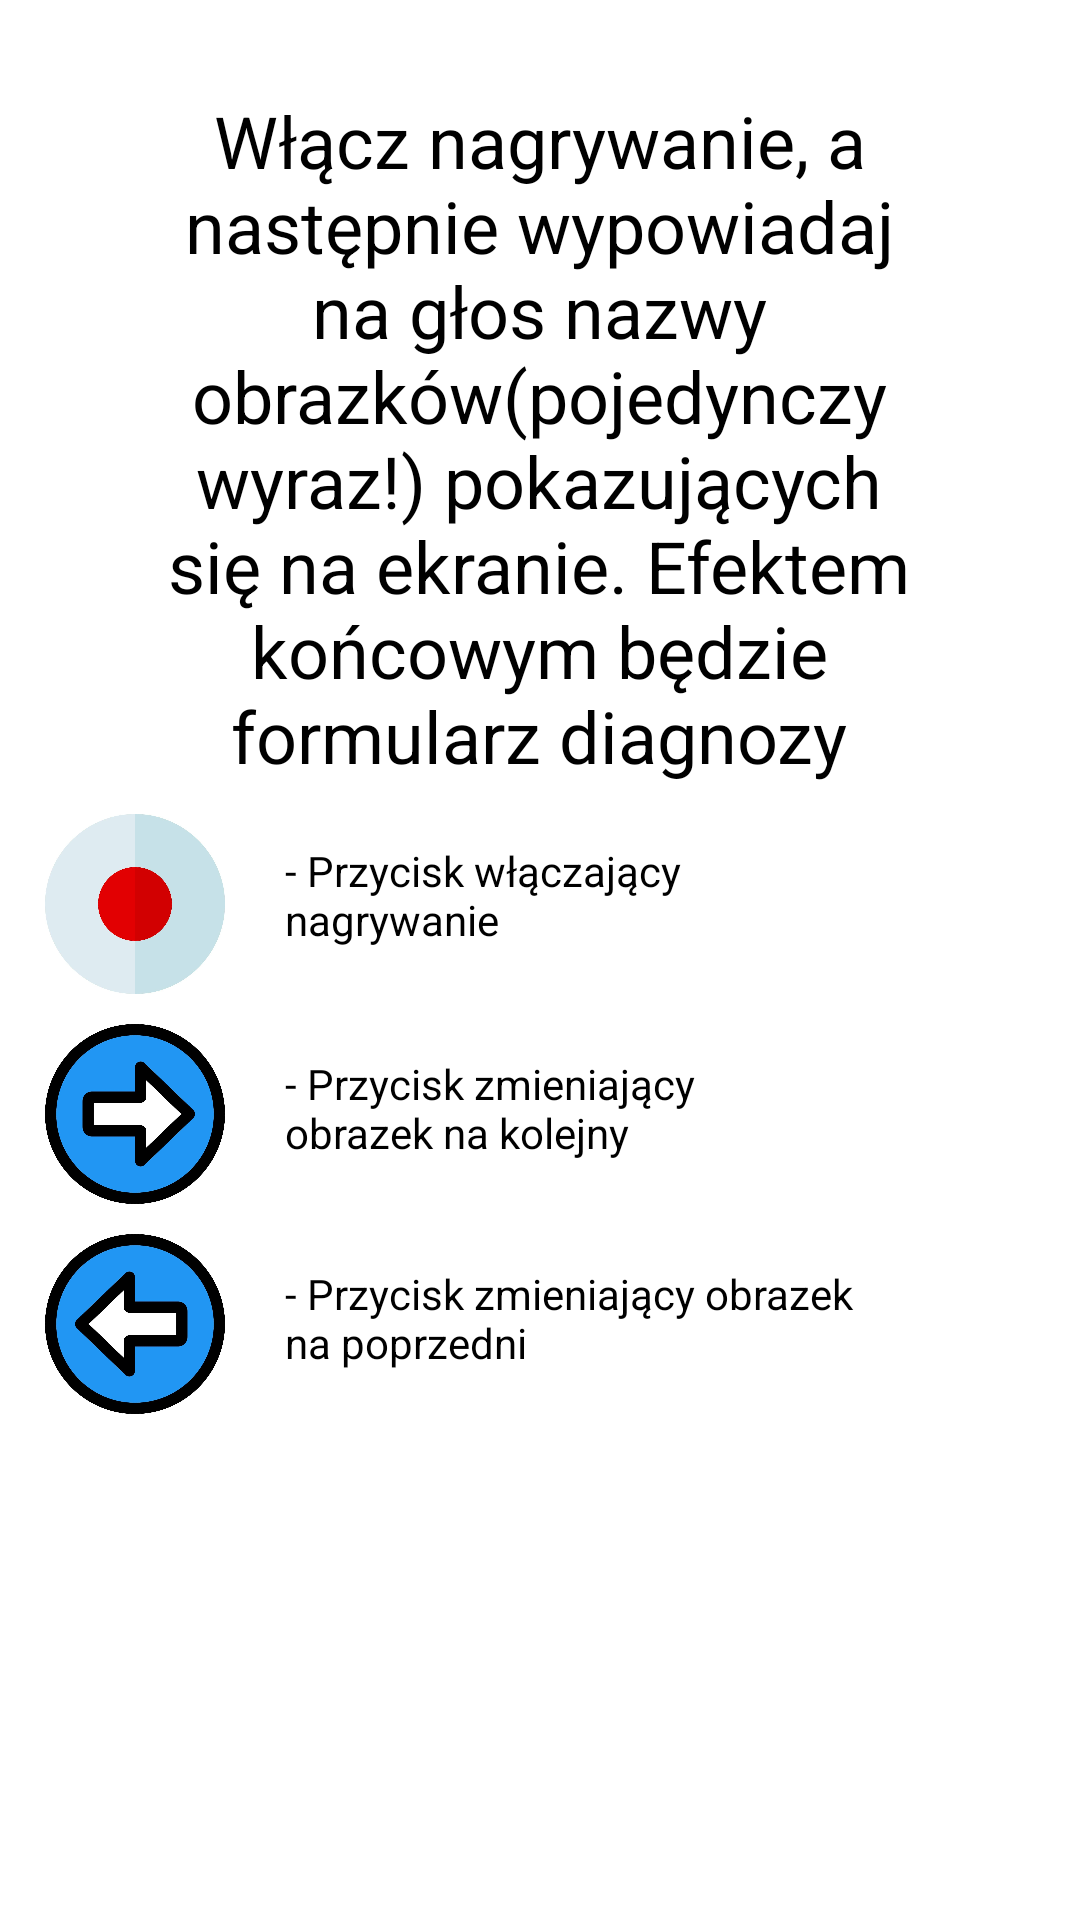

Named icons in this screenshot (1080 × 1920) and their centers, (x=x, y=y):
next: (x=135, y=1114)
previous: (x=135, y=1324)
record: (x=135, y=904)
